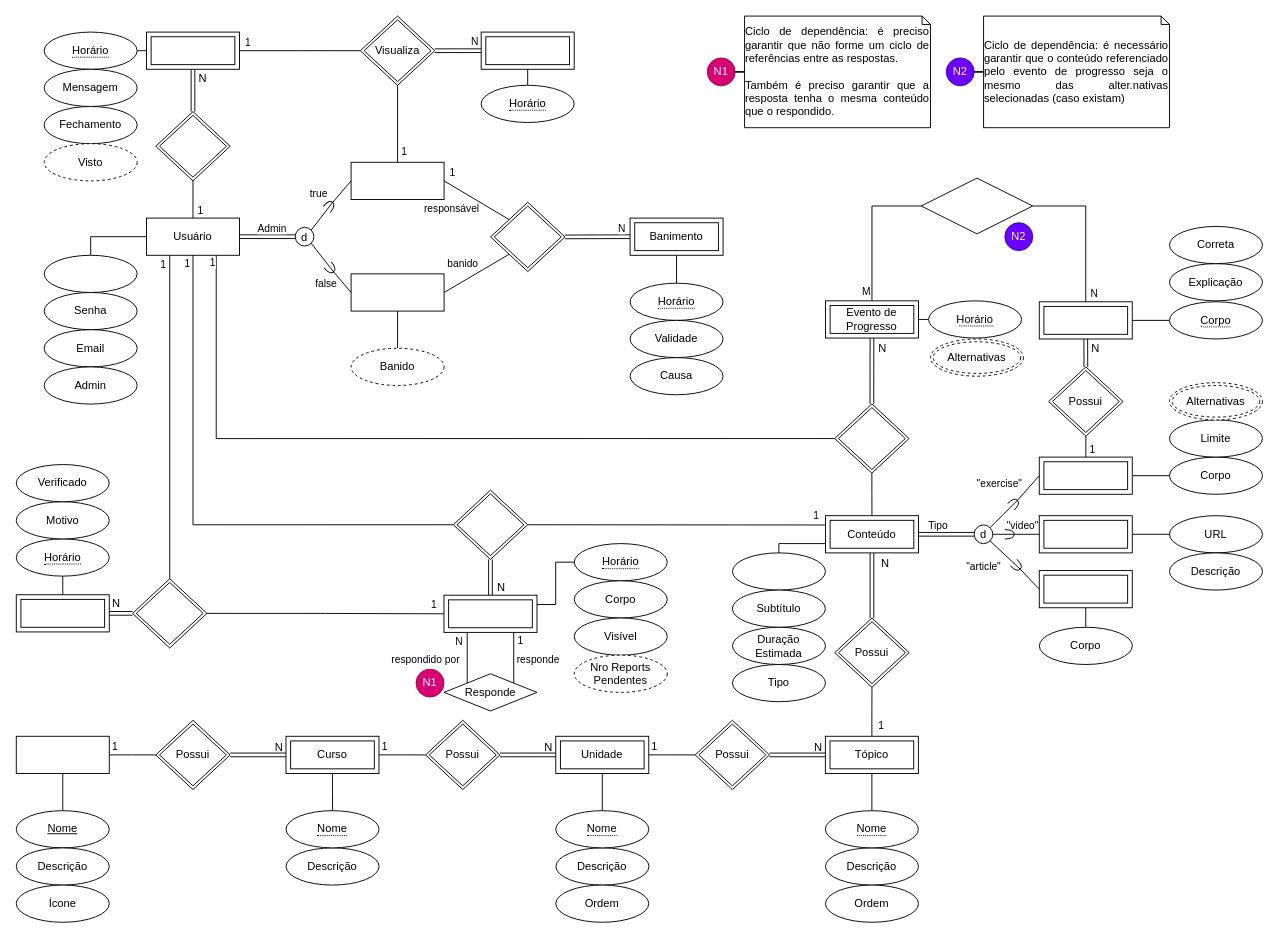
Image size: 1279x939. Some labels were removed from this diagram. Each missing label, with the centre of its shape:
Administrador: [397,180]
Alternativa: [1085,320]
Artigo: [1085,589]
Bane: [527,236]
Categoria: [62,754]
Comenta: [490,524]
Comentário: [490,613]
Envia: [192,146]
Exercício: [1085,475]
Feedback: [192,50]
Nome de usuário: [90,273]
Progride: [871,438]
Report: [62,613]
Reporta: [169,613]
Selecionando: [976,205]
Título: [778,571]
Usuário Convencional: [397,292]
Visualização Feedback: [527,50]
Vídeo: [1085,534]
